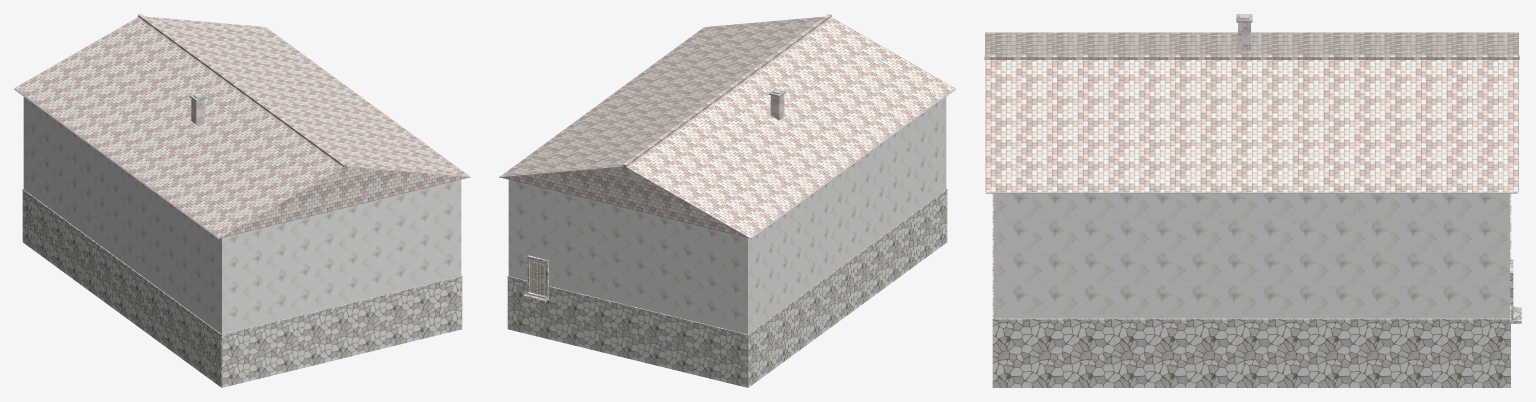
The picture shows the model from 3 angles, left to right: view 1: azimuth 30°, elevation 25°; view 2: azimuth 150°, elevation 25°; view 3: azimuth 270°, elevation 25°; orthographic projection. The views are drawn at different scales.
Visible parts, largest first — view 1: b1086637707; view 2: b1086637707; view 3: b1086637707.
Part boxes in pixels (x1,y1,x2,y2): b1086637707: [14, 14, 470, 387]; b1086637707: [499, 14, 955, 387]; b1086637707: [984, 14, 1521, 387].
Bounding box in the file's own units: 14.82 × 11.44 × 20.98.
Materials: 14 (14 with a texture image).
